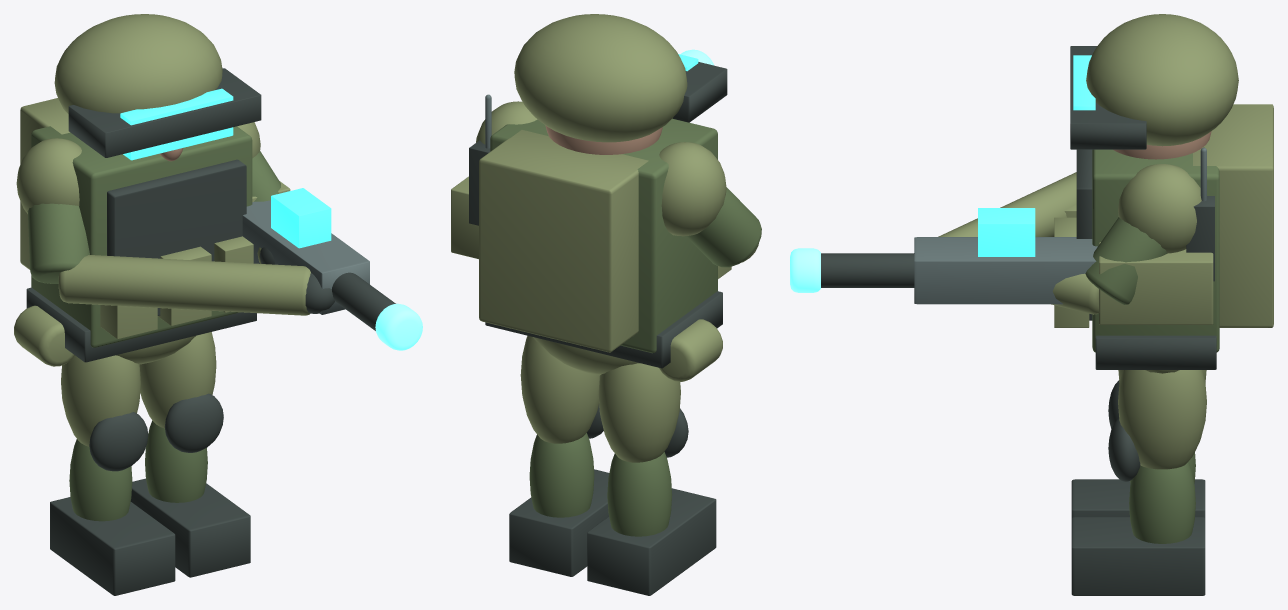
File: soldier-gear.glb
3 renders of one model, left to right at view 1: azimuth 30°, elevation 25°; view 2: azimuth 150°, elevation 25°; view 3: azimuth 270°, elevation 25°, orthographic. The views are drawn at different scales.
Visible parts, largest first — view 1: Casco balistico, Soldier_ForearmL, Placa frontal, Chaleco placas, Soldier_BootL, Soldier_BootR, Borde casco, Soldier_ThighL, Rifle laser, Soldier_ThighR, Soldier_UpperArmL, Cinturon (+17 smaller); view 2: Mochila, Casco balistico, Chaleco placas, Soldier_BootL, Soldier_ThighL, Soldier_ThighR, Soldier_BootR, Soldier_ShoulderL, Soldier_ShinL, Soldier_ShinR, Soldier_UpperArmL, Cinturon (+8 smaller); view 3: Casco balistico, Mochila, Rifle laser, Soldier_BootR, Soldier_ThighR, Culata, Chaleco placas, Soldier_ShoulderR, Soldier_ShinR, Cinturon, Soldier_UpperArmR, Borde casco (+12 smaller).
Part boxes in pixels (x1,y1,x2,y2): Casco balistico: (54, 14, 222, 113); Soldier_ForearmL: (58, 255, 310, 315); Placa frontal: (107, 159, 246, 315); Chaleco placas: (31, 126, 252, 347); Soldier_BootL: (50, 497, 175, 595); Soldier_BootR: (130, 478, 250, 577); Borde casco: (68, 68, 261, 157); Soldier_ThighL: (61, 355, 140, 446); Rifle laser: (242, 200, 369, 314); Soldier_ThighR: (139, 332, 216, 428); Soldier_UpperArmL: (27, 203, 89, 283); Cinturon: (26, 287, 256, 362); Mochila: (479, 130, 648, 352); Casco balistico: (514, 14, 687, 142); Chaleco placas: (490, 118, 717, 353); Soldier_BootL: (587, 488, 716, 595); Soldier_ThighL: (598, 363, 680, 462); Soldier_ThighR: (520, 335, 599, 443); Soldier_BootR: (509, 469, 609, 576); Soldier_ShoulderL: (659, 142, 726, 236); Soldier_ShinL: (607, 452, 672, 536); Soldier_ShinR: (529, 433, 594, 517); Soldier_UpperArmL: (686, 187, 761, 267); Cinturon: (485, 291, 722, 368); Casco balistico: (1086, 14, 1238, 146); Mochila: (1193, 104, 1273, 327); Rifle laser: (914, 237, 1097, 304); Soldier_BootR: (1071, 517, 1205, 595); Soldier_ThighR: (1118, 370, 1206, 469); Culata: (1099, 242, 1213, 324); Chaleco placas: (1092, 149, 1219, 352); Soldier_ShoulderR: (1118, 164, 1201, 253); Soldier_ShinR: (1129, 462, 1195, 543); Cinturon: (1095, 335, 1216, 369); Soldier_UpperArmR: (1085, 217, 1167, 304); Borde casco: (1070, 46, 1146, 149).
Bounding box in the file's own units: 0.9576 × 1.86 × 1.52.
